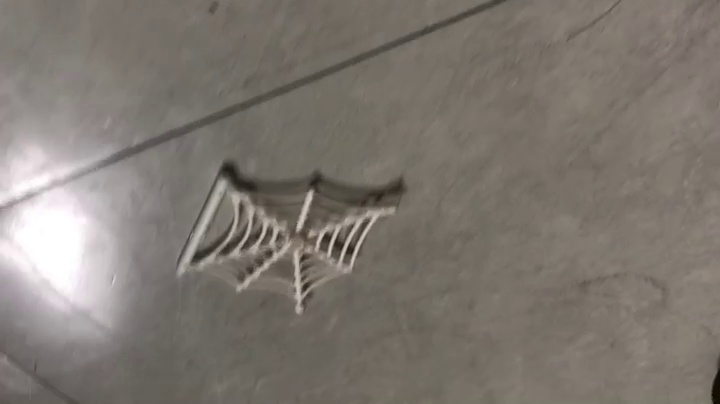web: (174, 161, 410, 316)
